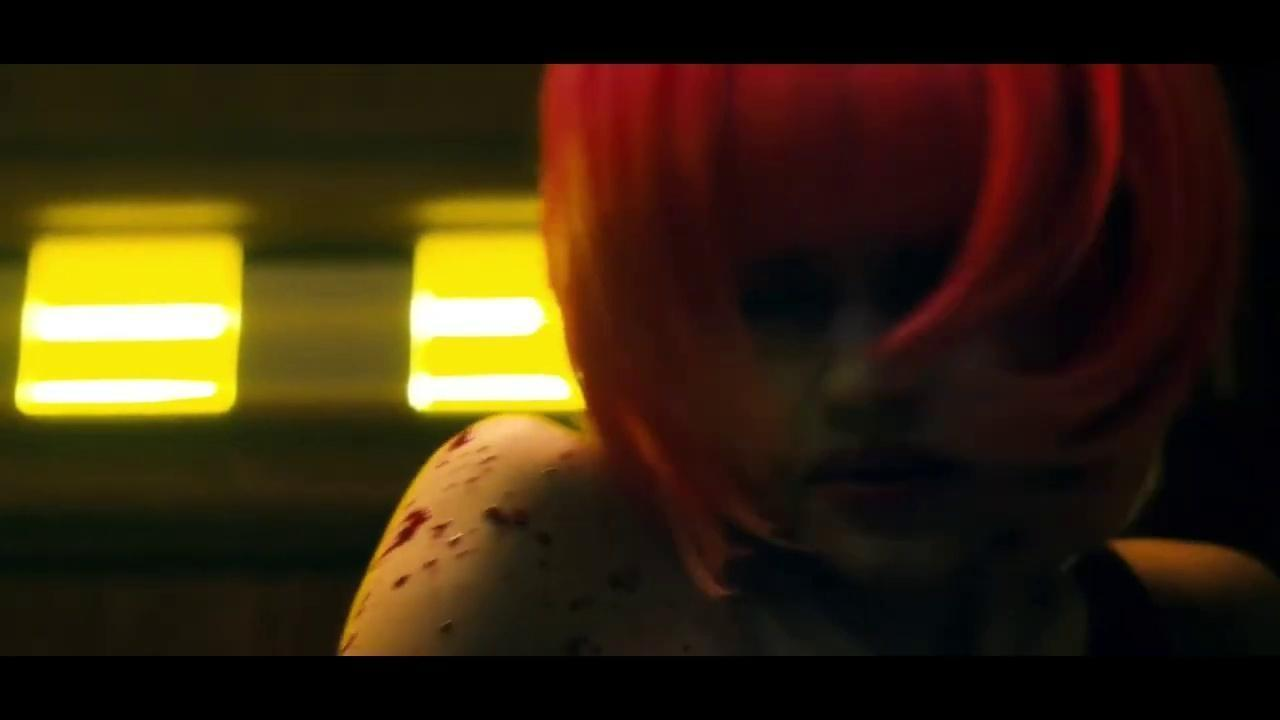Fire: (340, 417, 669, 654), (682, 632, 714, 654)
